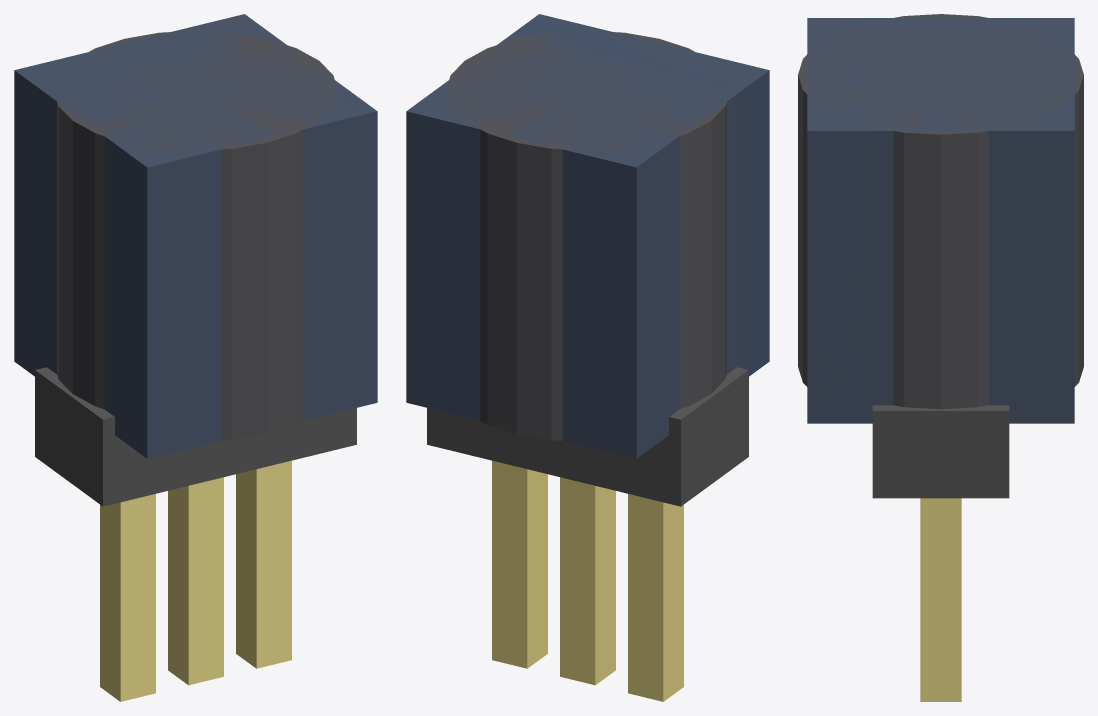
The model's file is ds18b20-temperature.glb.
3 views of the same model, side by side, from view 1: azimuth 30°, elevation 25°; view 2: azimuth 150°, elevation 25°; view 3: azimuth 270°, elevation 25° (orthographic).
Visible parts, largest first — view 1: ds18b20-temperature_mesh; view 2: ds18b20-temperature_mesh; view 3: ds18b20-temperature_mesh.
Part boxes in pixels (x1,y1,x2,y2): ds18b20-temperature_mesh: [14, 14, 377, 701]; ds18b20-temperature_mesh: [406, 14, 769, 701]; ds18b20-temperature_mesh: [798, 14, 1083, 701].
Bounding box in the file's own units: 4.74 × 10.4 × 4.6.
